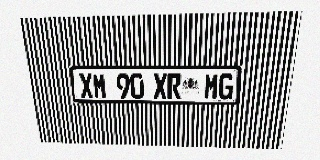0: (130, 73, 144, 99)
9: (116, 73, 130, 99)
G: (218, 73, 234, 100)
M: (204, 73, 219, 99), (92, 73, 107, 98)
R: (167, 73, 181, 99)
X: (79, 73, 94, 98), (153, 73, 167, 99)
